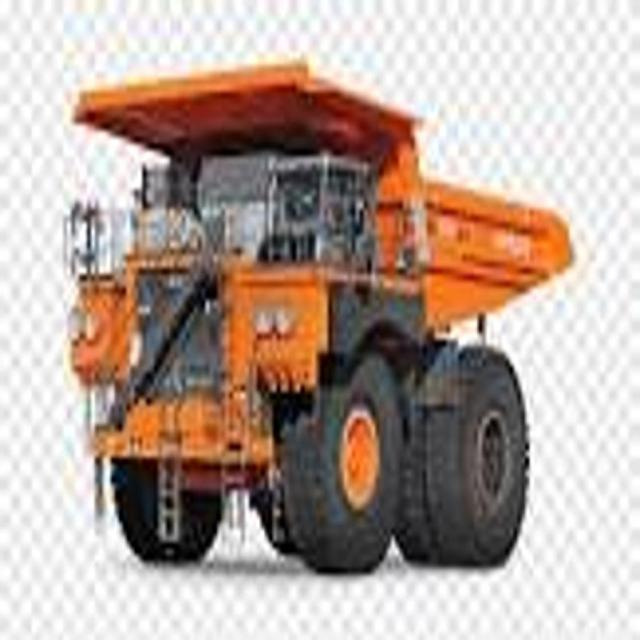dump_truck: (65, 54, 573, 590)
